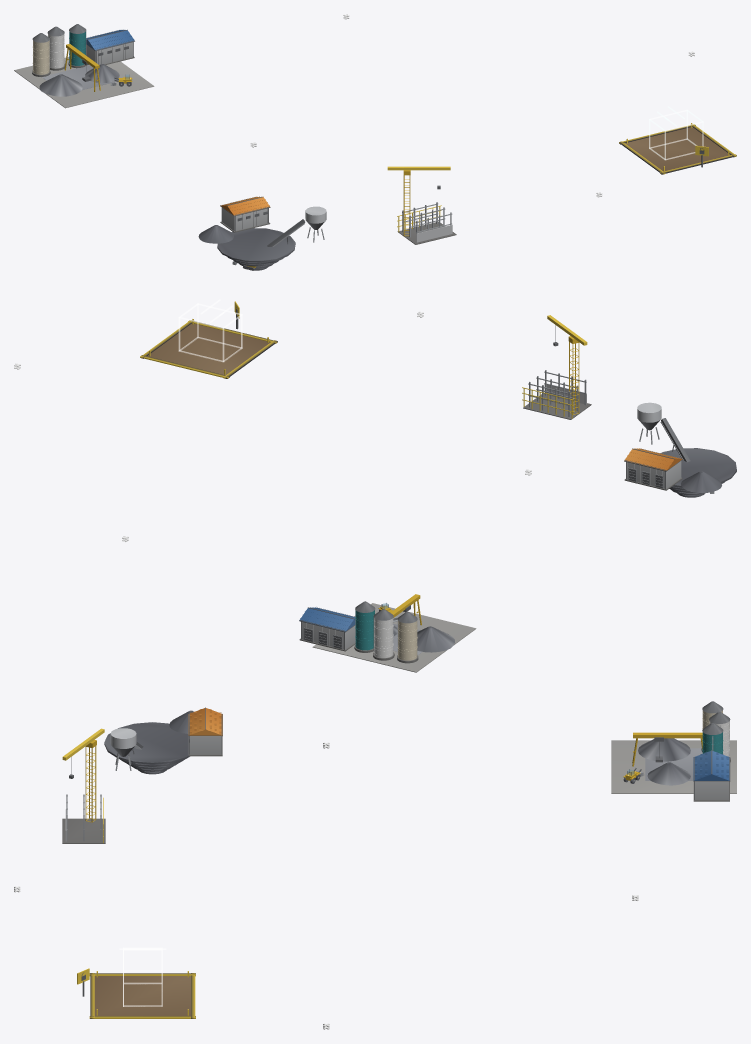
File: Sites_P2.fbx
The picture shows the model from 3 angles, top to bottom: view 1: azimuth 30°, elevation 25°; view 2: azimuth 150°, elevation 25°; view 3: azimuth 270°, elevation 25°; orthographic projection. The views are drawn at different scales.
Visible parts, largest first — view 1: Site.plant.Pad, Site.Store.Yard, Site.Quarry.Benches, Site.Construction, Site.Quarry.Shed, Site.Store.Shed, Site.Store.Silo0, Site.Store.Pile0, Site.Crane, Site.plant.Ghost, Site.Store.Silo1, Site.Store.Silo2 (+3 smaller); view 2: Site.plant.Pad, Site.Store.Yard, Site.Store.Shed, Site.Construction, Site.Quarry.Shed, Site.Quarry.Benches, Site.Store.Silo1, Site.Store.Silo0, Site.Store.Silo2, Site.plant.Ghost, Site.Crane, Site.Store.Pile0 (+2 smaller); view 3: Site.plant.Pad, Site.Store.Yard, Site.Quarry.Benches, Site.Store.Shed, Site.Quarry.Shed, Site.Construction, Site.Crane, Site.Store.Pile0, Site.Store.Pile1, Site.Quarry.Hopper, Site.Store.Gantry, Site.plant.Ghost (+1 smaller).
Part boxes in pixels (bbox=[...]): Site.plant.Pad: bbox=[619, 123, 736, 174]; Site.Store.Yard: bbox=[14, 57, 154, 108]; Site.Quarry.Benches: bbox=[217, 228, 295, 270]; Site.Construction: bbox=[397, 202, 456, 244]; Site.Quarry.Shed: bbox=[220, 196, 270, 232]; Site.Store.Shed: bbox=[86, 29, 134, 64]; Site.Store.Silo0: bbox=[32, 33, 50, 76]; Site.Store.Pile0: bbox=[39, 74, 82, 96]; Site.Crane: bbox=[387, 166, 450, 236]; Site.plant.Ghost: bbox=[649, 106, 703, 160]; Site.Store.Silo1: bbox=[47, 26, 65, 70]; Site.Store.Silo2: bbox=[68, 24, 86, 68]; Site.plant.Pad: bbox=[140, 319, 277, 378]; Site.Store.Yard: bbox=[312, 603, 476, 672]; Site.Store.Shed: bbox=[299, 607, 355, 651]; Site.Construction: bbox=[522, 370, 591, 419]; Site.Quarry.Shed: bbox=[624, 448, 682, 490]; Site.Quarry.Benches: bbox=[660, 448, 736, 497]; Site.Store.Silo1: bbox=[373, 609, 394, 660]; Site.Store.Silo0: bbox=[397, 611, 418, 663]; Site.Store.Silo2: bbox=[354, 601, 375, 652]; Site.plant.Ghost: bbox=[178, 299, 242, 362]; Site.Crane: bbox=[547, 315, 587, 414]; Site.Store.Pile0: bbox=[417, 626, 454, 652]; Site.plant.Pad: bbox=[89, 971, 195, 1018]; Site.Store.Yard: bbox=[611, 740, 736, 793]; Site.Quarry.Benches: bbox=[104, 722, 189, 774]; Site.Store.Shed: bbox=[693, 750, 730, 801]; Site.Quarry.Shed: bbox=[188, 707, 222, 756]; Site.Construction: bbox=[62, 794, 105, 843]; Site.Crane: bbox=[62, 728, 104, 822]; Site.Store.Pile0: bbox=[638, 738, 690, 761]; Site.Store.Pile1: bbox=[647, 762, 690, 785]; Site.Quarry.Hopper: bbox=[110, 728, 136, 770]; Site.Store.Gantry: bbox=[632, 732, 702, 766]; Site.plant.Ghost: bbox=[119, 947, 166, 1006].
Bounding box in the file's own units: 32068 × 4801 × 29934.
